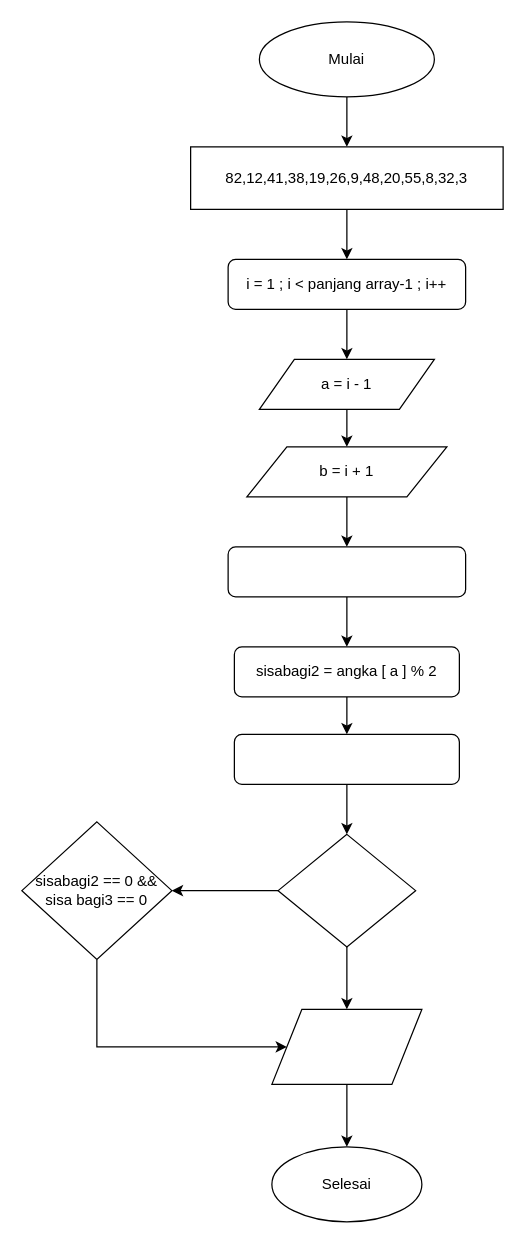
Image size: 525x1244. Some labels were removed from this diagram. Here are the shapes that lost their labels. From the top down, the centre of each, then its label:
At pixel 346 571: "sisabagi1 = angka [ i ] % 2".
At pixel 346 758: "sisabagii3 = angka [ b ] % 2".
At pixel 346 890: "sisabagi1 == 1".
At pixel 346 1046: "angka [ i ]".
